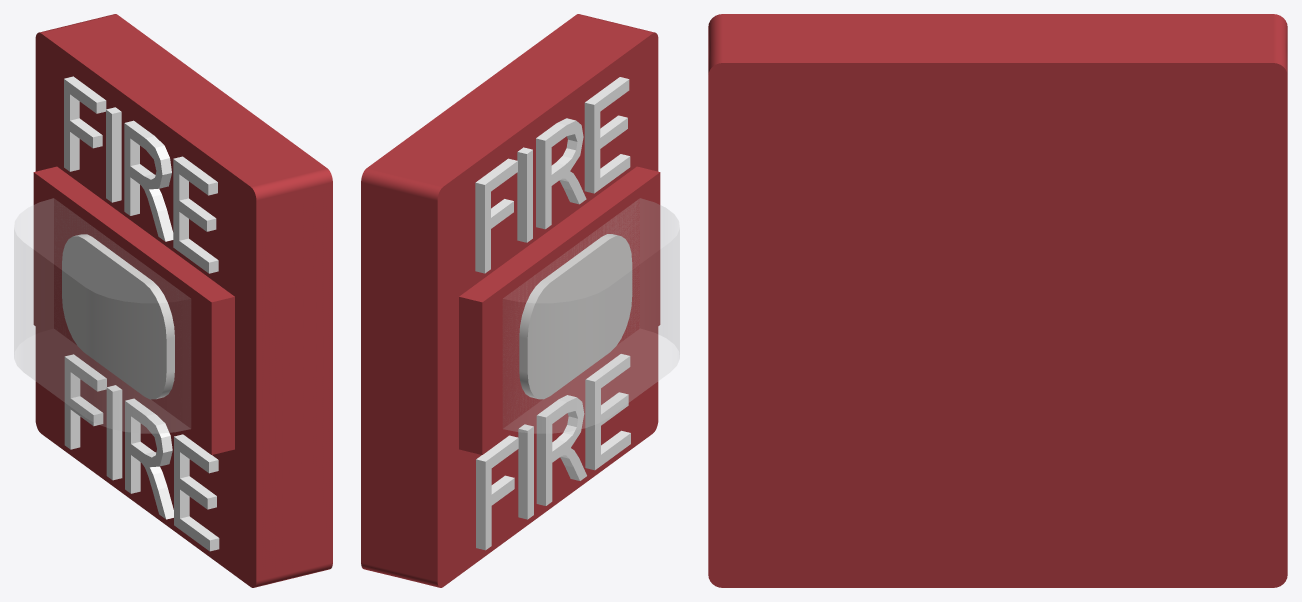
The model's file is fire_alarm.fbx.
3 views of the same model, side by side, from view 1: azimuth 30°, elevation 25°; view 2: azimuth 150°, elevation 25°; view 3: azimuth 270°, elevation 25° (orthographic). The views are drawn at different scales.
Parts seen in each view (by area): view 1: w-Fire Alarm Box Fire Alarm Pull Box-NH [160855]; view 2: w-Fire Alarm Box Fire Alarm Pull Box-NH [160855]; view 3: w-Fire Alarm Box Fire Alarm Pull Box-NH [160855].
Boxes of the visible parts, x1,y1,x2,y2 form: w-Fire Alarm Box Fire Alarm Pull Box-NH [160855]: (14, 14, 332, 587); w-Fire Alarm Box Fire Alarm Pull Box-NH [160855]: (361, 14, 679, 587); w-Fire Alarm Box Fire Alarm Pull Box-NH [160855]: (708, 14, 1287, 587).
Bounding box in the file's own units: 5.57 × 12.7 × 12.7.
